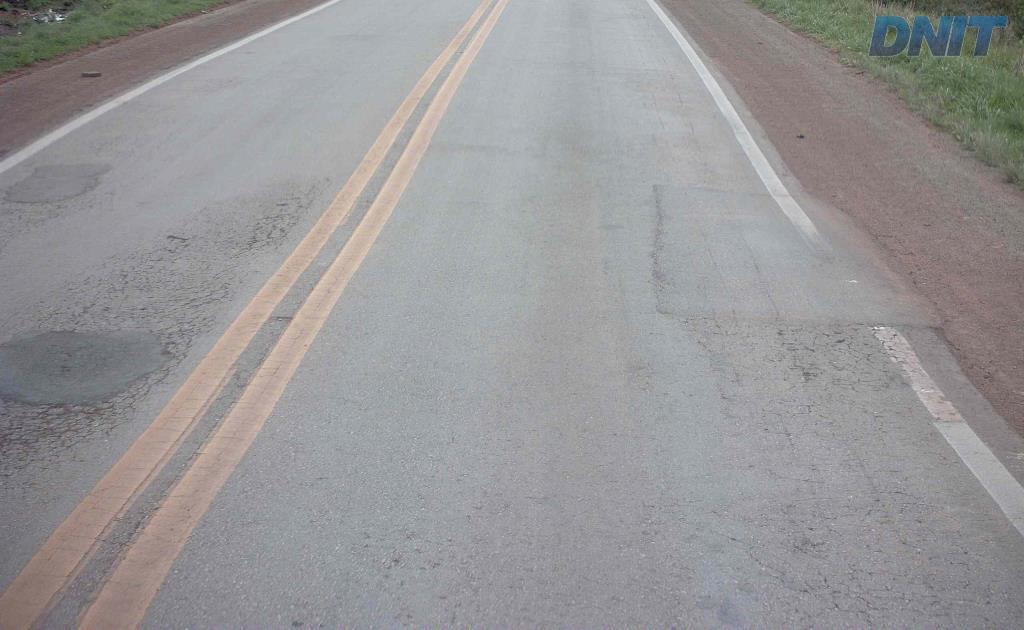crack: (801, 319, 857, 356), (789, 355, 825, 383)
